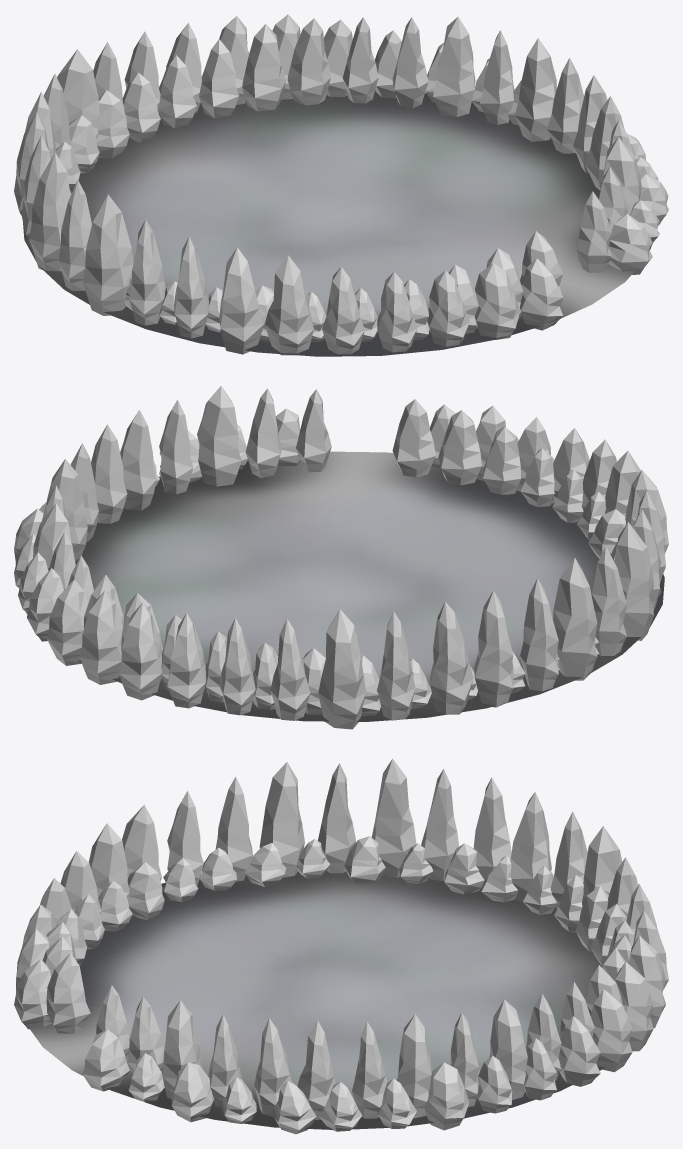
File: Cave.fbx
The picture shows the model from 3 angles, top to bottom: view 1: azimuth 30°, elevation 25°; view 2: azimuth 150°, elevation 25°; view 3: azimuth 270°, elevation 25°; orthographic projection.
Visible parts, largest first — view 1: Circle, Cube, Cube.001; view 2: Circle, Cube, Cube.001; view 3: Circle, Cube, Cube.001.
Boxes of the visible parts, bbox=[...] form: Circle: bbox=[23, 90, 651, 356]; Cube: bbox=[14, 14, 668, 355]; Cube.001: bbox=[56, 17, 641, 341]; Circle: bbox=[75, 451, 664, 721]; Cube: bbox=[14, 404, 668, 729]; Cube.001: bbox=[33, 386, 625, 715]; Circle: bbox=[28, 870, 604, 1129]; Cube: bbox=[14, 758, 668, 1134]; Cube.001: bbox=[42, 836, 634, 1119].
Bounding box in the file's own units: 931 × 186 × 937.
Materials: 1 (1 with a texture image).
